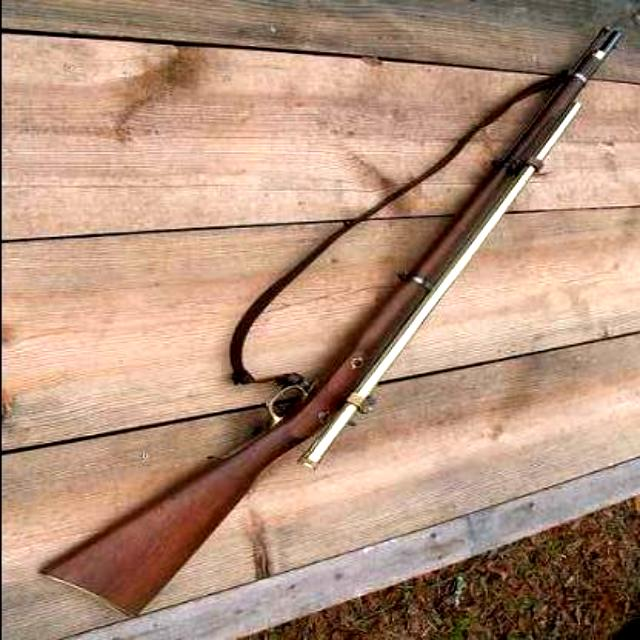rifle: (36, 26, 618, 616)
